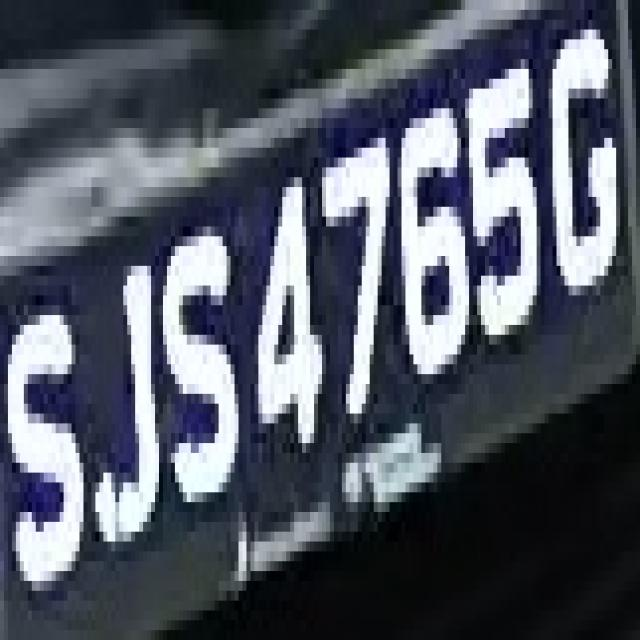4: (238, 168, 326, 492)
5: (473, 59, 545, 384)
6: (382, 79, 469, 394)
7: (314, 118, 398, 463)
G: (541, 30, 628, 315)
J: (76, 226, 163, 562)
S: (159, 197, 239, 532), (4, 296, 83, 630)
